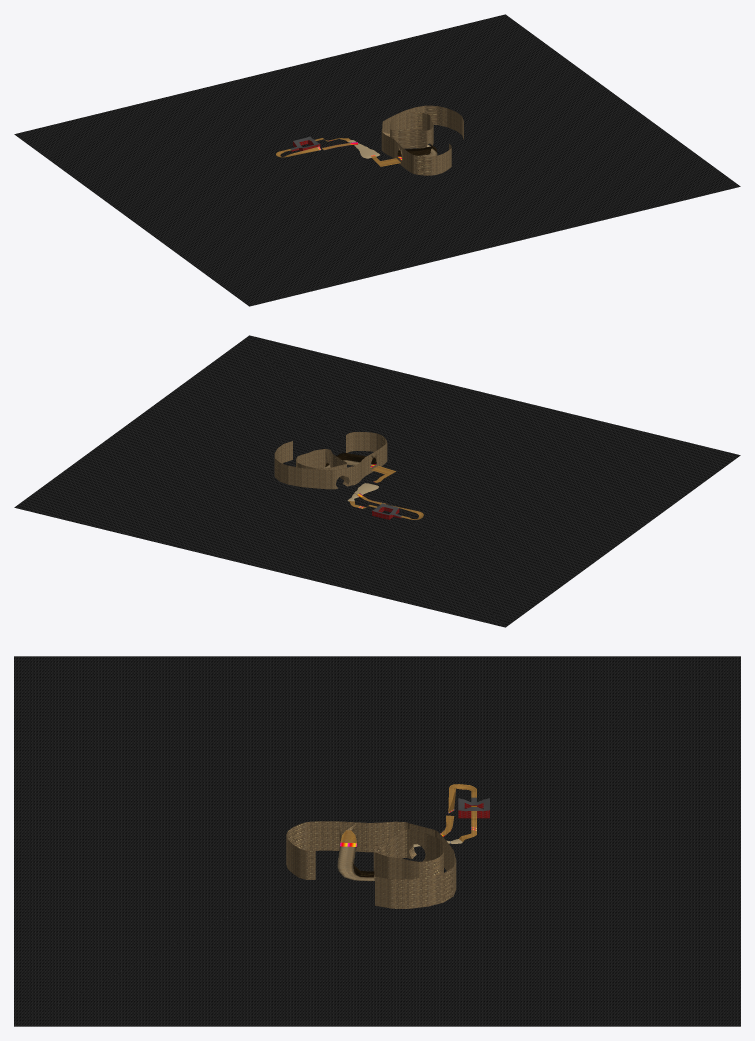
3 views of the same model, one above another, from view 1: azimuth 30°, elevation 25°; view 2: azimuth 150°, elevation 25°; view 3: azimuth 270°, elevation 25° (orthographic). The views are drawn at different scales.
Parts seen in each view (by area): view 1: model-SKP--Pocha, model-SKP--RockWall2, model-SKP--Wood; view 2: model-SKP--Pocha, model-SKP--RockWall2; view 3: model-SKP--Pocha, model-SKP--RockWall2, model-SKP--Wood, model-GRP-5088-DirtRoad.
Boxes of the visible parts, x1=… form: model-SKP--Pocha: x1=14, y1=14, x2=740, y2=306; model-SKP--RockWall2: x1=381, y1=105, x2=463, y2=175; model-SKP--Wood: x1=276, y1=138, x2=400, y2=166; model-SKP--Pocha: x1=14, y1=335, x2=740, y2=627; model-SKP--RockWall2: x1=274, y1=432, x2=387, y2=489; model-SKP--Pocha: x1=14, y1=656, x2=740, y2=1026; model-SKP--RockWall2: x1=286, y1=821, x2=456, y2=908; model-SKP--Wood: x1=340, y1=784, x2=476, y2=843; model-GRP-5088-DirtRoad: x1=337, y1=846, x2=374, y2=881.
Size of the model in its own units: 380048 by 16293 by 315307.
13 materials, 13 textured.
